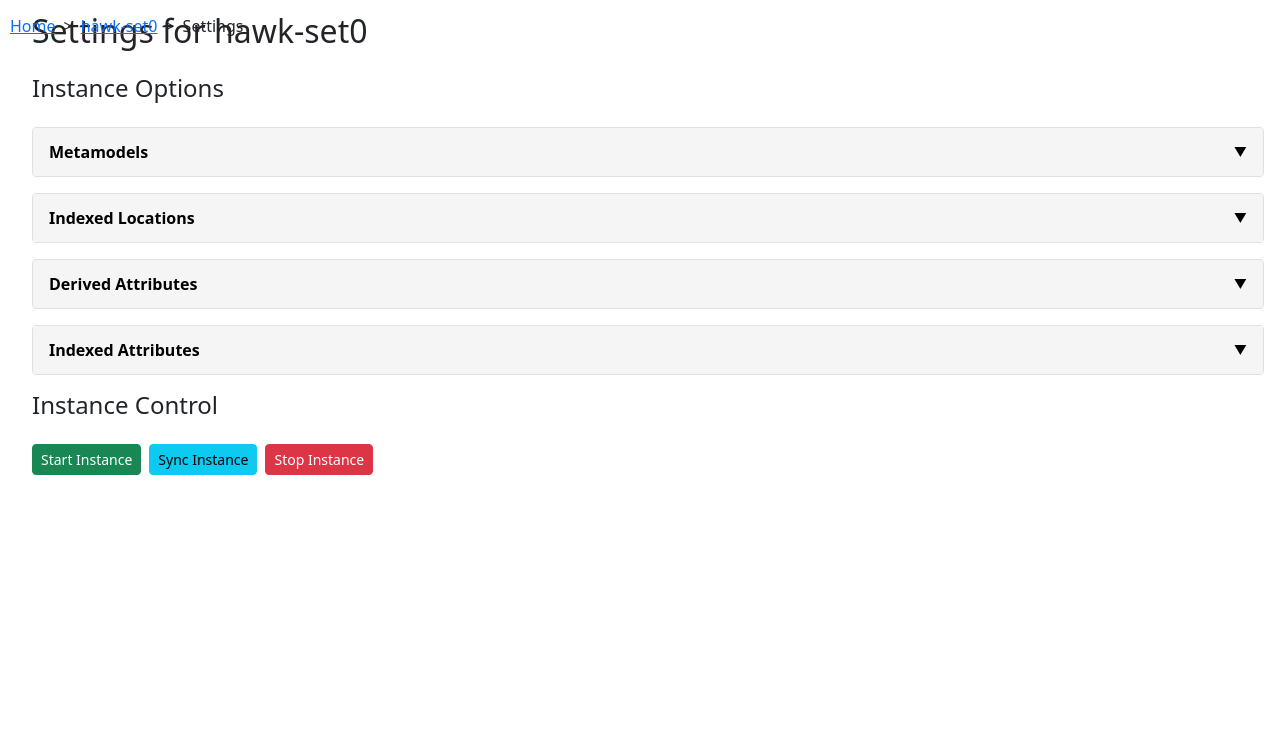
it: SettingsContent › deletes metamodels from the instance
Click the button "Metamodels ▼" at (99, 152), box [33,128,1263,176]
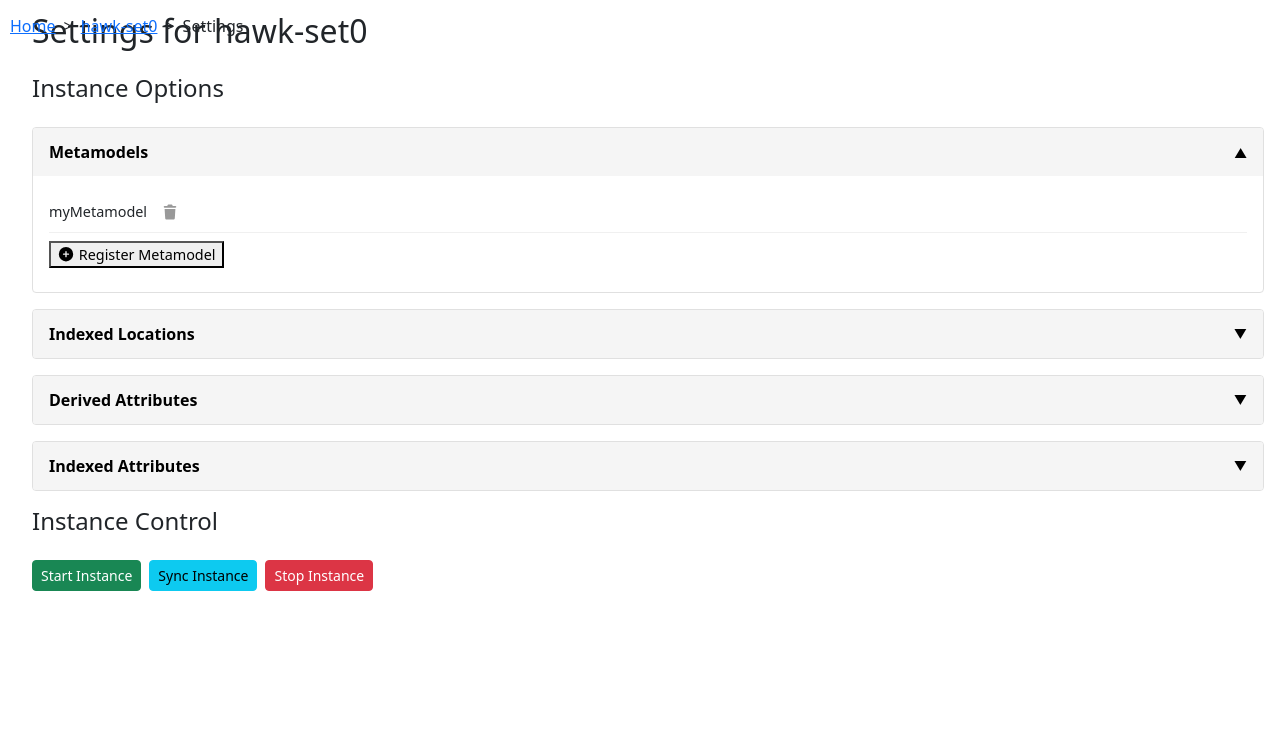
Expected: the text "myMetamodel" is shown, [49,202,147,221]
Expected: the button named "Unregister Metamodel myMetamodel" is shown
Click the button named "Unregister Metamodel myMetamodel" at (170, 212), box [155,200,185,224]
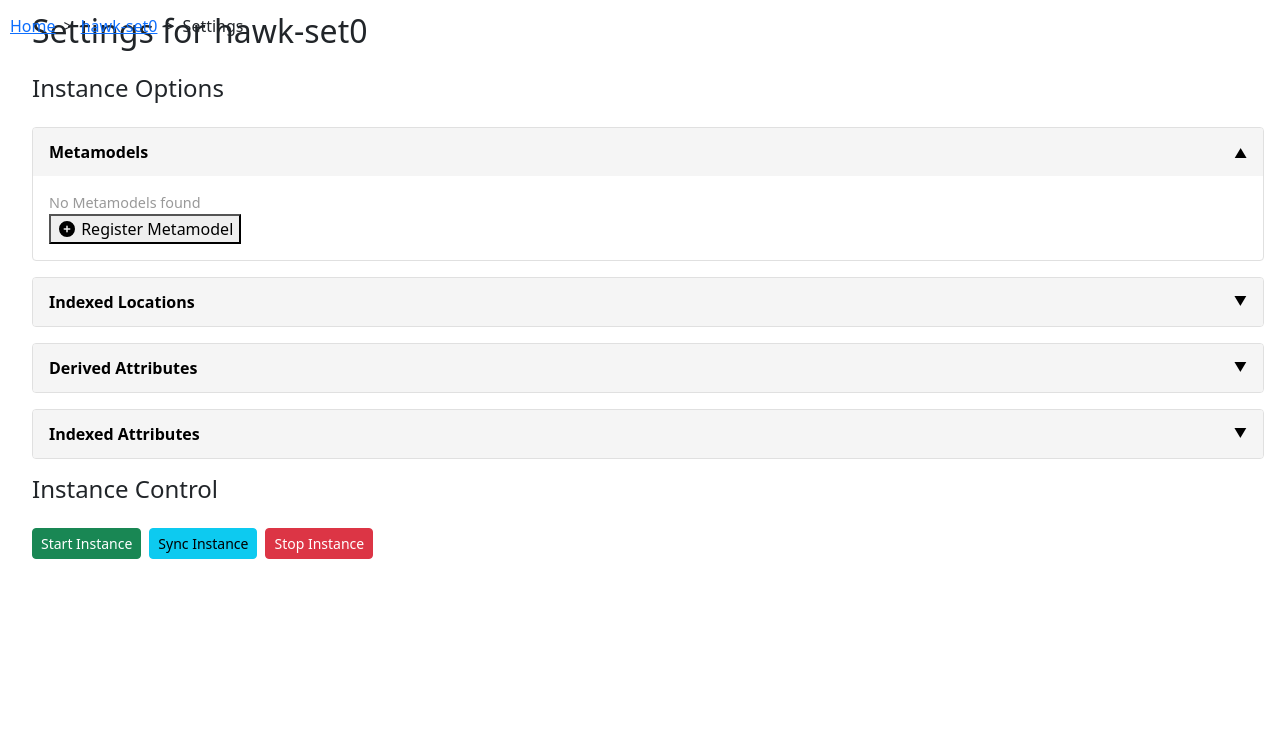
Expected: the text "No Metamodels found" is shown, [49,193,201,212]
